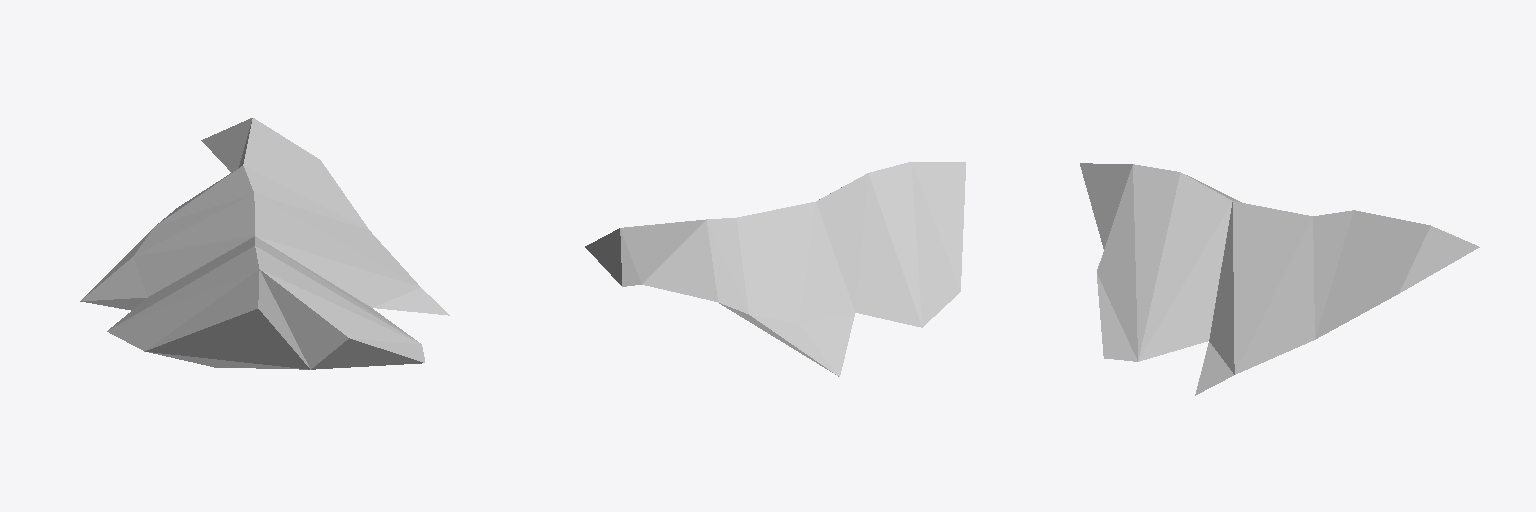
File: ShatterPar03.obj
3 renders of one model, left to right at view 1: azimuth 30°, elevation 25°; view 2: azimuth 150°, elevation 25°; view 3: azimuth 270°, elevation 25°, orthographic.
Parts seen in each view (by area): view 1: ShatterPar03; view 2: ShatterPar03; view 3: ShatterPar03.
Boxes of the visible parts, box(x1,y1,x2,y2) form: ShatterPar03: box(80, 118, 449, 369); ShatterPar03: box(585, 162, 965, 376); ShatterPar03: box(1080, 163, 1479, 395).
Size of the model in its own units: 0.958 by 0.3955 by 1.09.